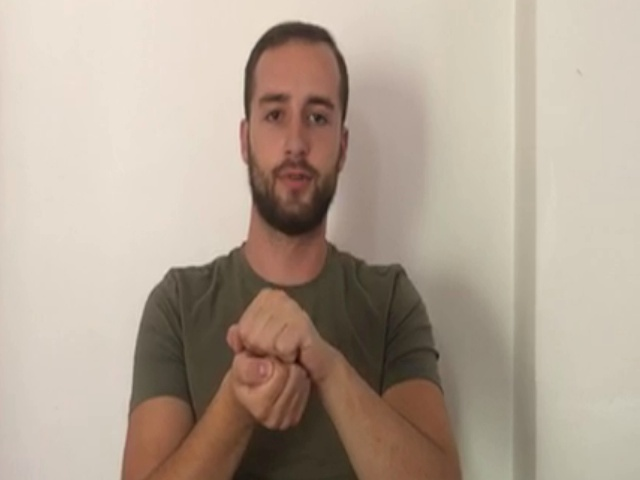Istorija: (222, 287, 319, 432)
